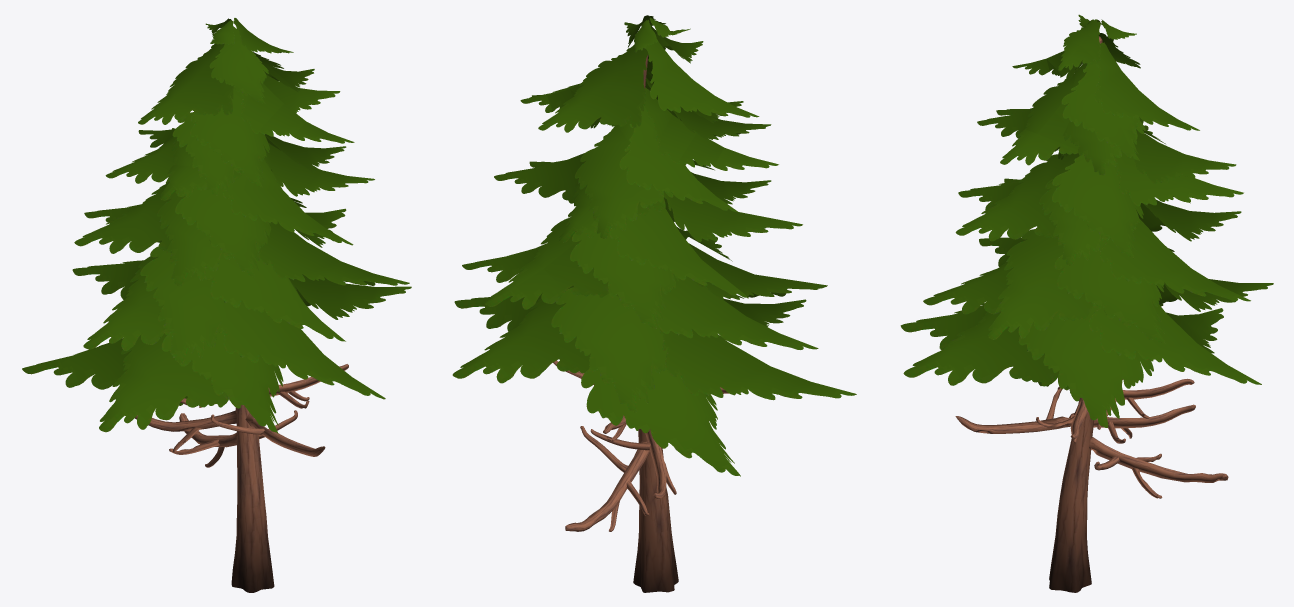
The model's file is nature.glb.
3 views of the same model, side by side, from view 1: azimuth 30°, elevation 25°; view 2: azimuth 150°, elevation 25°; view 3: azimuth 270°, elevation 25° (orthographic). The views are drawn at different scales.
Visible parts, largest first — view 1: Pine_1; view 2: Pine_1; view 3: Pine_1.
Part boxes in pixels (left/top/right/bottom): Pine_1: left=22, top=18, right=411, bottom=592; Pine_1: left=452, top=15, right=856, bottom=592; Pine_1: left=900, top=14, right=1273, bottom=592.
Bounding box in the file's own units: 4.94 × 7.32 × 4.54.
2 materials, 2 textured.
